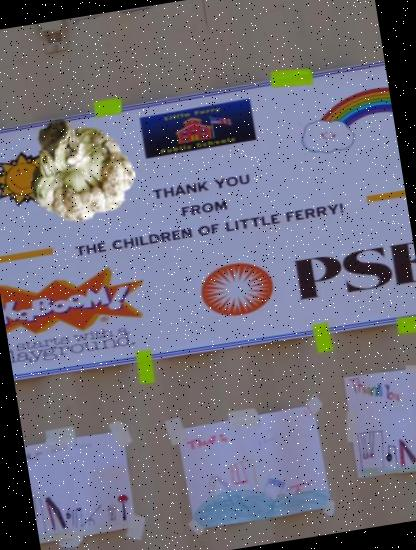Cauliflower: (20, 108, 144, 232)
